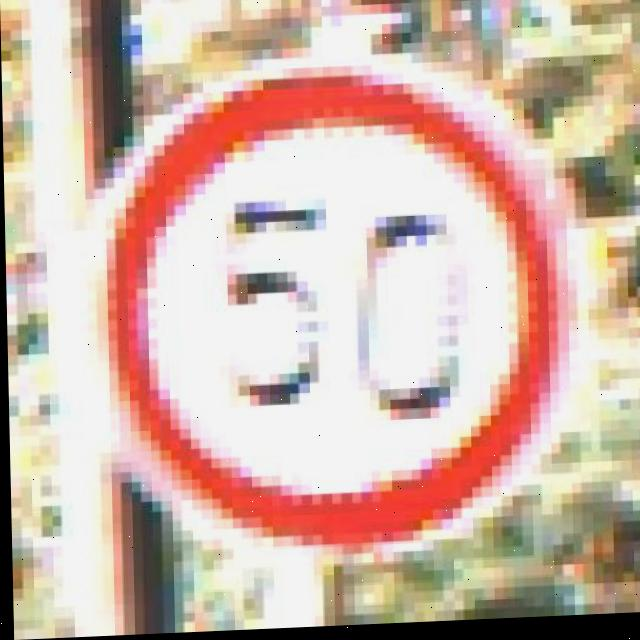Speed limit 50: (96, 63, 574, 561)
